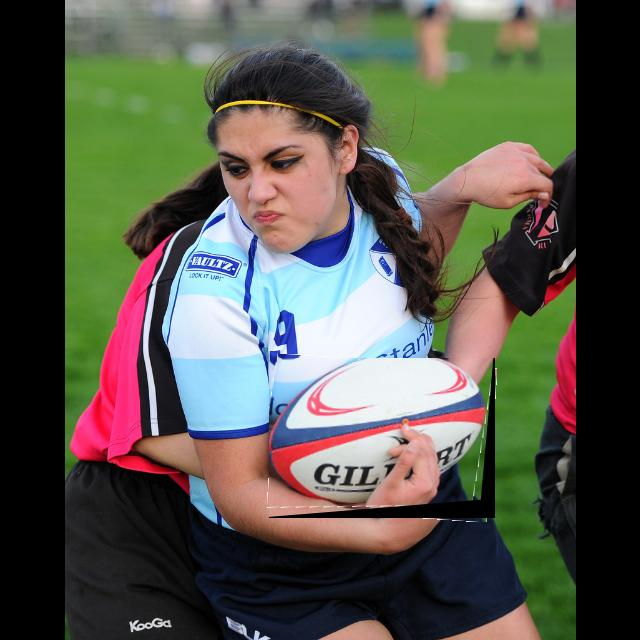Football: (269, 358, 495, 518)
